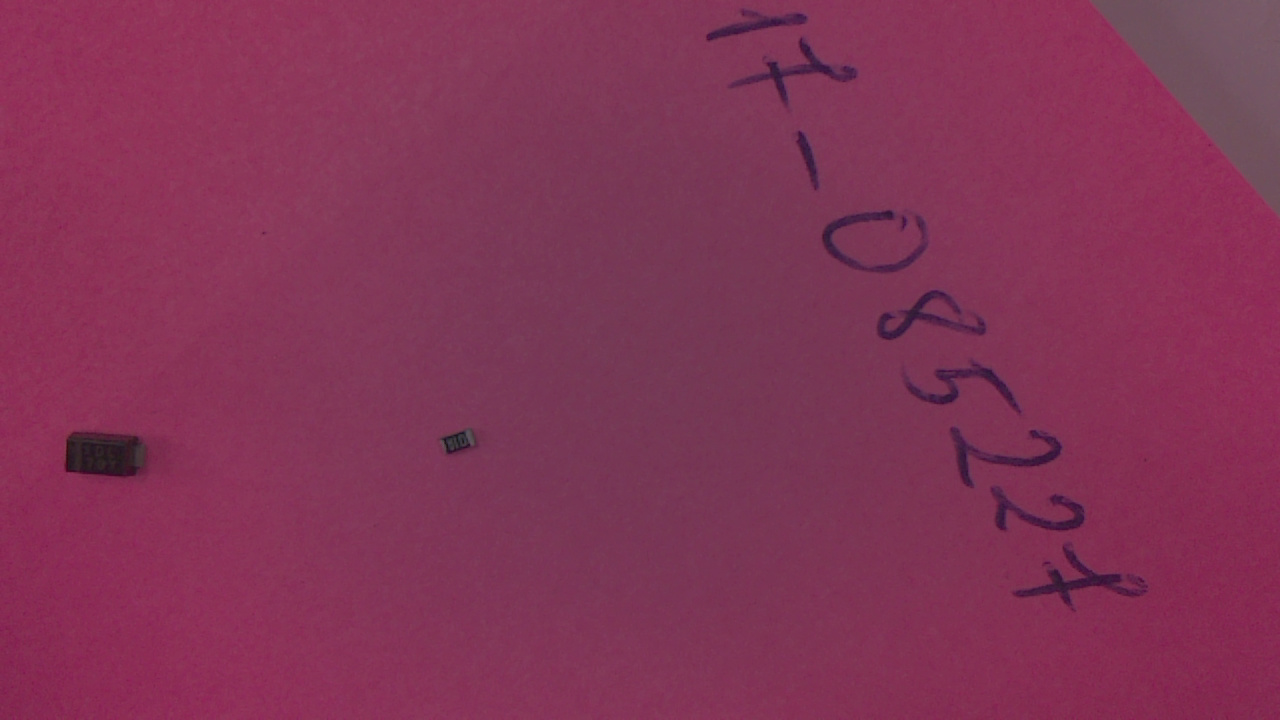Diode: (64, 434, 152, 483)
Resistor: (441, 429, 482, 467)
